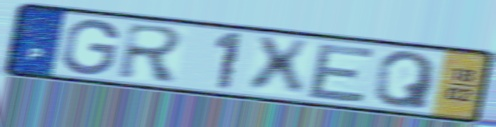1: (210, 31, 246, 93)
E: (304, 42, 379, 105)
G: (58, 18, 123, 78)
Q: (371, 50, 440, 111)
R: (115, 21, 187, 84)
X: (246, 35, 313, 98)
